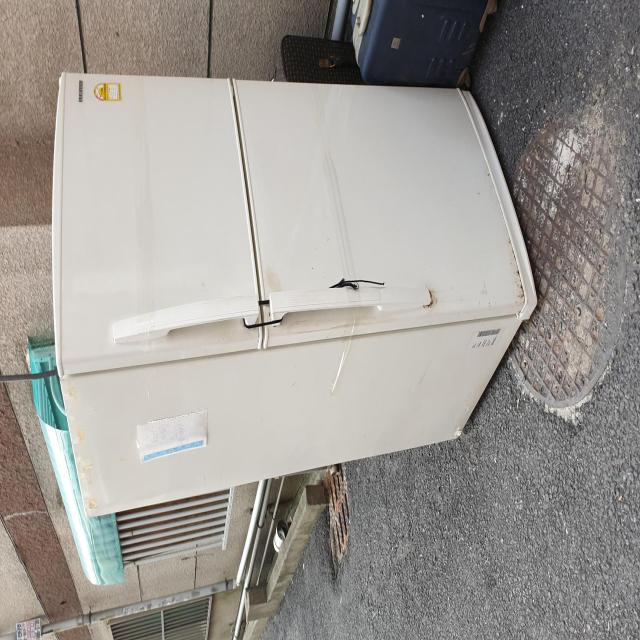refrigerator: (48, 63, 543, 525)
